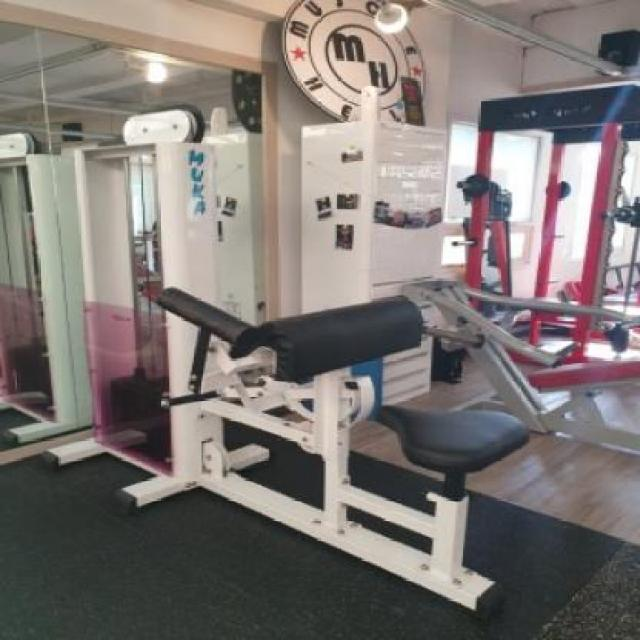arm curl machine: (160, 295, 528, 617)
